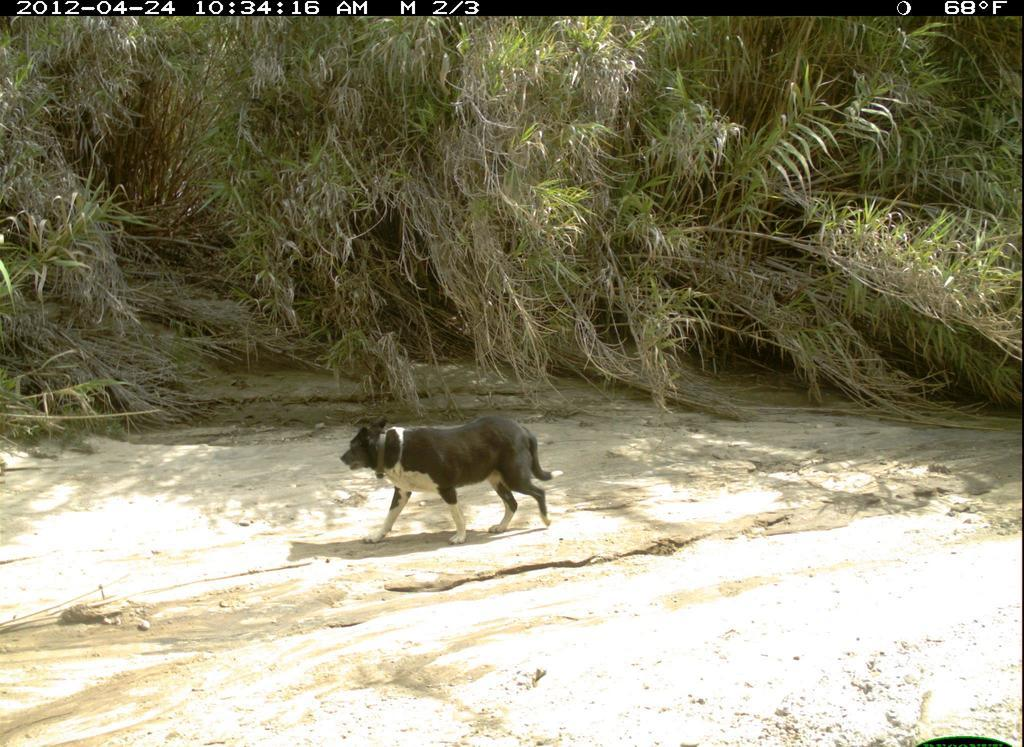dog: (336, 404, 574, 553)
